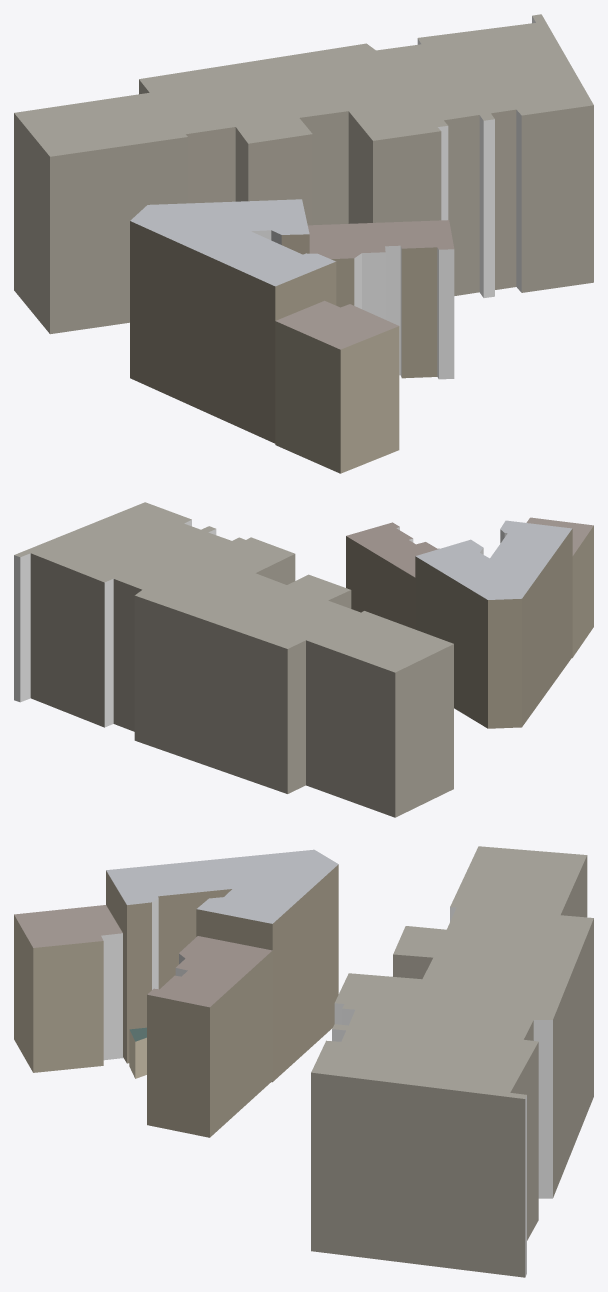
The picture shows the model from 3 angles, top to bottom: view 1: azimuth 30°, elevation 25°; view 2: azimuth 150°, elevation 25°; view 3: azimuth 270°, elevation 25°; orthographic projection. The views are drawn at different scales.
Visible parts, largest first — view 1: tuile; view 2: tuile; view 3: tuile.
Boxes of the visible parts, x1,y1,x2,y2 form: tuile: [14, 14, 593, 473]; tuile: [14, 502, 593, 817]; tuile: [14, 846, 593, 1277].
Bounding box in the file's own units: 71.7 × 23.55 × 69.3.
